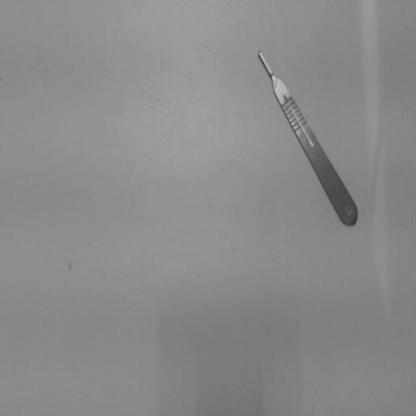No.3 BP Handle: (242, 28, 374, 248)
